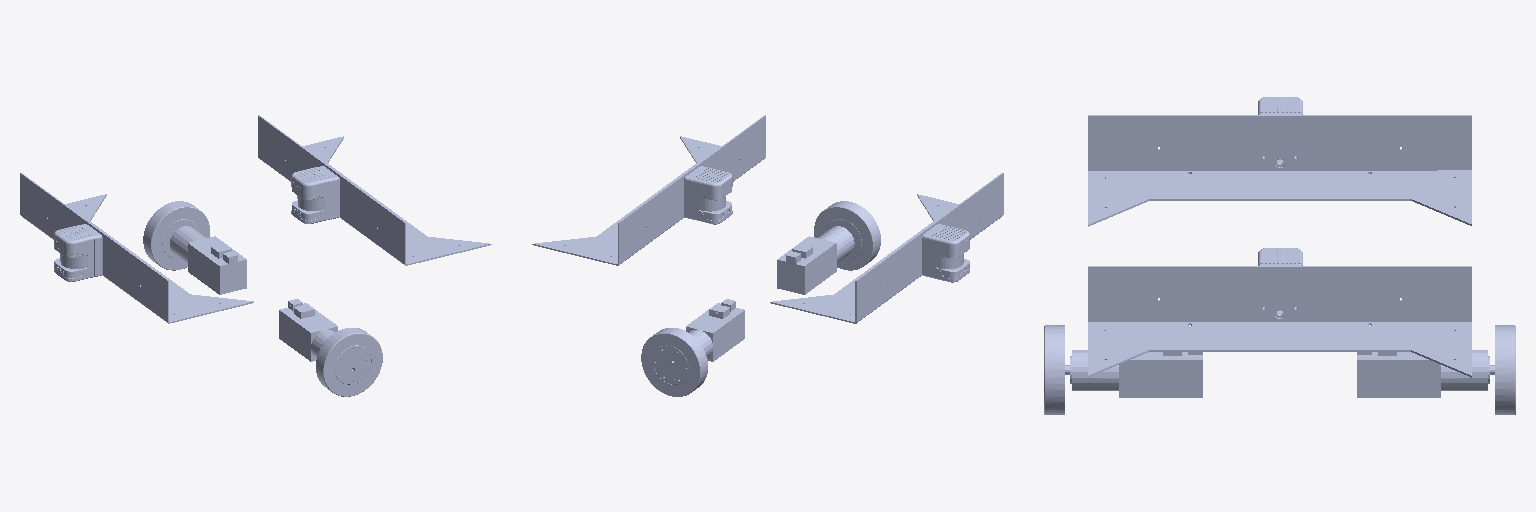
URDF robot description (ip200):
<?xml version="1.0" encoding="utf-8"?>
<!-- This URDF was automatically created by SolidWorks to URDF Exporter! Originally created by [author] ([email redacted]) 
     Commit Version: 1.6.0-1-g15f4949  Build Version: 1.6.7594.29634
     For more information, please see http://wiki.ros.org/sw_urdf_exporter -->
<robot
  name="ip200">
  <link name="base_footprint"/>
  <link name="base_scan"/>
  <joint name="scan_joint" type="fixed">
    <parent link="base_link"/>
    <child link="base_scan" />
    <!-- <origin xyz="0 0 0.0335" rpy="0 0 0"/> -->
    <origin xyz="0 0 0.04" rpy="0 0 0"/>
  </joint>

  <joint name="base_joint" type="fixed">
    <parent link="base_footprint"/>
    <child link="base_link" />
    <!-- <origin xyz="0 0 0.0335" rpy="0 0 0"/> -->
    <origin xyz="0 0 0.0335" rpy="0 0 0"/>
  </joint>
  
  <link
    name="base_link">
    <inertial>
      <origin
        xyz="-8.074233413775E-05 0.00167010666358344 0.253055984044282"
        rpy="0 0 0" />
      <mass
        value="19.2341768436338" />
      <inertia
        ixx="0.73131577307895"
        ixy="0.00084688488709123"
        ixz="0.00164494760727376"
        iyy="0.724104006445325"
        iyz="-5.57752444312045E-05"
        izz="1.39581073958625" />
    </inertial>
    <visual>
      <origin
        xyz="0 0 0"
        rpy="0 0 0" />
      <geometry>
        <mesh
          filename="package://ip200_description/meshes/rw_description.STL" />
      </geometry>
      <material
        name="">
        <color
          rgba="0.792156862745098 0.819607843137255 0.933333333333333 1" />
      </material>
    </visual>
    <collision>
      <origin
        xyz="0 0 0"
        rpy="0 0 0" />
      <geometry>
        <mesh
          filename="package://ip200_description/meshes/rw_description.STL" />
      </geometry>
    </collision>
  </link>
  <link
    name="l_rear_wheel">
    <inertial>
      <origin
        xyz="3.60441696500543E-06 -0.0923002305760895 0.000587940142489175"
        rpy="0 0 0" />
      <mass
        value="1.04815459938863" />
      <inertia
        ixx="0.00261088701633814"
        ixy="1.31102007184665E-08"
        ixz="-3.81505861905977E-08"
        iyy="0.00121500177792377"
        iyz="3.58019706903565E-05"
        izz="0.00258940454618749" />
    </inertial>
    <visual>
      <origin
        xyz="0 0 0"
        rpy="0 0 0" />
      <geometry>
        <mesh
          filename="package://ip200_description/meshes/l_rear_wheel.STL" />
      </geometry>
      <material
        name="">
        <color
          rgba="0.792156862745098 0.819607843137255 0.933333333333333 1" />
      </material>
    </visual>
    <collision>
      <origin
        xyz="0 0 0"
        rpy="0 0 0" />
      <geometry>
        <mesh
          filename="package://ip200_description/meshes/l_rear_wheel.STL" />
      </geometry>
    </collision>
  </link>
  <joint
    name="l_rear_wheel"
    type="continuous">
    <origin
      xyz="0 0.3405 0.0649999999999999"
      rpy="0 0 0" />
    <parent
      link="base_link" />
    <child
      link="l_rear_wheel" />
    <axis
      xyz="0 -1 0" />
  </joint>
  <link
    name="r_rear_wheel">
    <inertial>
      <origin
        xyz="-1.93085150211863E-07 0.0922981752597209 0.000601150921649272"
        rpy="0 0 0" />
      <mass
        value="1.04812748709294" />
      <inertia
        ixx="0.00261080454514841"
        ixy="1.80765553467149E-08"
        ixz="8.41125092686639E-09"
        iyy="0.00121496443053289"
        iyz="-3.57478245635109E-05"
        izz="0.0025893893403154" />
    </inertial>
    <visual>
      <origin
        xyz="0 0 0"
        rpy="0 0 0" />
      <geometry>
        <mesh
          filename="package://ip200_description/meshes/r_rear_wheel.STL" />
      </geometry>
      <material
        name="">
        <color
          rgba="0.792156862745098 0.819607843137255 0.933333333333333 1" />
      </material>
    </visual>
    <collision>
      <origin
        xyz="0 0 0"
        rpy="0 0 0" />
      <geometry>
        <mesh
          filename="package://ip200_description/meshes/r_rear_wheel.STL" />
      </geometry>
    </collision>
  </link>
  <joint
    name="r_rear_wheel"
    type="continuous">
    <origin
      xyz="0 -0.3405 0.0649999999996"
      rpy="0 0 0" />
    <parent
      link="base_link" />
    <child
      link="r_rear_wheel" />
    <axis
      xyz="0 1 0" />
  </joint>
  <link
    name="rear_lidar">
    <inertial>
      <origin
        xyz="-0.4055605350155 -6.19753136898854E-05 -0.0147536372771876"
        rpy="0 0 0" />
      <mass
        value="0.385651153728386" />
      <inertia
        ixx="0.00973637361531699"
        ixy="-4.55675275538205E-11"
        ixz="-0.000217121449304545"
        iyy="0.000870251294406086"
        iyz="1.24939133642565E-11"
        izz="0.00999879780357618" />
    </inertial>
    <visual>
      <origin
        xyz="0 0 0"
        rpy="0 0 0" />
      <geometry>
        <mesh
          filename="package://ip200_description/meshes/front_lidar.STL" />
      </geometry>
      <material
        name="">
        <color
          rgba="0.792156862745098 0.819607843137255 0.933333333333333 1" />
      </material>
    </visual>
    <collision>
      <origin
        xyz="0 0 0"
        rpy="0 0 0" />
      <geometry>
        <mesh
          filename="package://ip200_description/meshes/front_lidar.STL" />
      </geometry>
    </collision>
  </link>
  <joint
    name="rear_lidar"
    type="fixed">
    <origin
      xyz="-0.4055605350155 0 0.2092511729546"
      rpy="0 0 -3.14" />
    <parent
      link="base_scan" />
    <child
      link="rear_lidar" />
    <axis
      xyz="0 0 1" />
  </joint>

  <link
    name="front_lidar">
    <inertial>
      <origin
        xyz="0.1111605350155 6.19753136896356E-05 -0.0147536372771875"
        rpy="0 0 0" />
      <mass
        value="0.385651153728386" />
      <inertia
        ixx="0.00973637361531705"
        ixy="-4.55675265329909E-11"
        ixz="0.000217099148045366"
        iyy="0.000870212405273177"
        iyz="-1.2493916469303E-11"
        izz="0.00999875891444332" />
    </inertial>
    <visual>
      <origin
        xyz="0 0 0"
        rpy="0 0 0" />
      <geometry>
        <mesh
          filename="package://ip200_description/meshes/rear_lidar.STL" />
      </geometry>
      <material
        name="">
        <color
          rgba="0.792156862745098 0.819607843137255 0.933333333333333 1" />
      </material>
    </visual>
    <collision>
      <origin
        xyz="0 0 0"
        rpy="0 0 0" />
      <geometry>
        <mesh
          filename="package://ip200_description/meshes/rear_lidar.STL" />
      </geometry>
    </collision>
  </link>

  <joint
    name="front_lidar"
    type="fixed">
    <origin
      xyz="0.1111605350155 0 0.2092511729546"
      rpy="0 0 0" />
    <parent
      link="base_scan" />
    <child
      link="front_lidar" />
    <axis
      xyz="0 0 1" />
  </joint>
</robot>

--- Facts derived from the render (not from the file) ---
3 views of the same robot in one strip: view 1: azimuth 30°, elevation 25°; view 2: azimuth 150°, elevation 25°; view 3: azimuth 270°, elevation 25° (orthographic).
Robot: ip200 — 7 links, 6 joints (2 continuous, 4 fixed); root link base_footprint; default pose: all joints at 0.
Visible links, largest first — view 1: rear_lidar, front_lidar, r_rear_wheel, l_rear_wheel; view 2: rear_lidar, front_lidar, l_rear_wheel, r_rear_wheel; view 3: front_lidar, rear_lidar, l_rear_wheel, r_rear_wheel.
Boxes of the visible links, bbox=[...] form: rear_lidar: bbox=[20, 173, 253, 323]; front_lidar: bbox=[258, 115, 491, 265]; r_rear_wheel: bbox=[279, 299, 382, 396]; l_rear_wheel: bbox=[143, 201, 246, 294]; rear_lidar: bbox=[770, 173, 1003, 323]; front_lidar: bbox=[532, 115, 765, 265]; l_rear_wheel: bbox=[641, 299, 744, 396]; r_rear_wheel: bbox=[777, 201, 880, 294]; front_lidar: bbox=[1088, 248, 1471, 377]; rear_lidar: bbox=[1088, 97, 1471, 226]; l_rear_wheel: bbox=[1357, 325, 1515, 414]; r_rear_wheel: bbox=[1044, 325, 1202, 414].
Size in the robot's own frame: 0.7802 by 0.681 by 0.3005 metres.
Meshes: 5 distinct files referenced, 4 mesh visuals loaded (4 binary STL); not drawn: 1 (reference not matched to a file when rendering).
